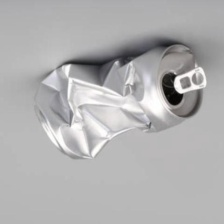can: (19, 32, 212, 164)
